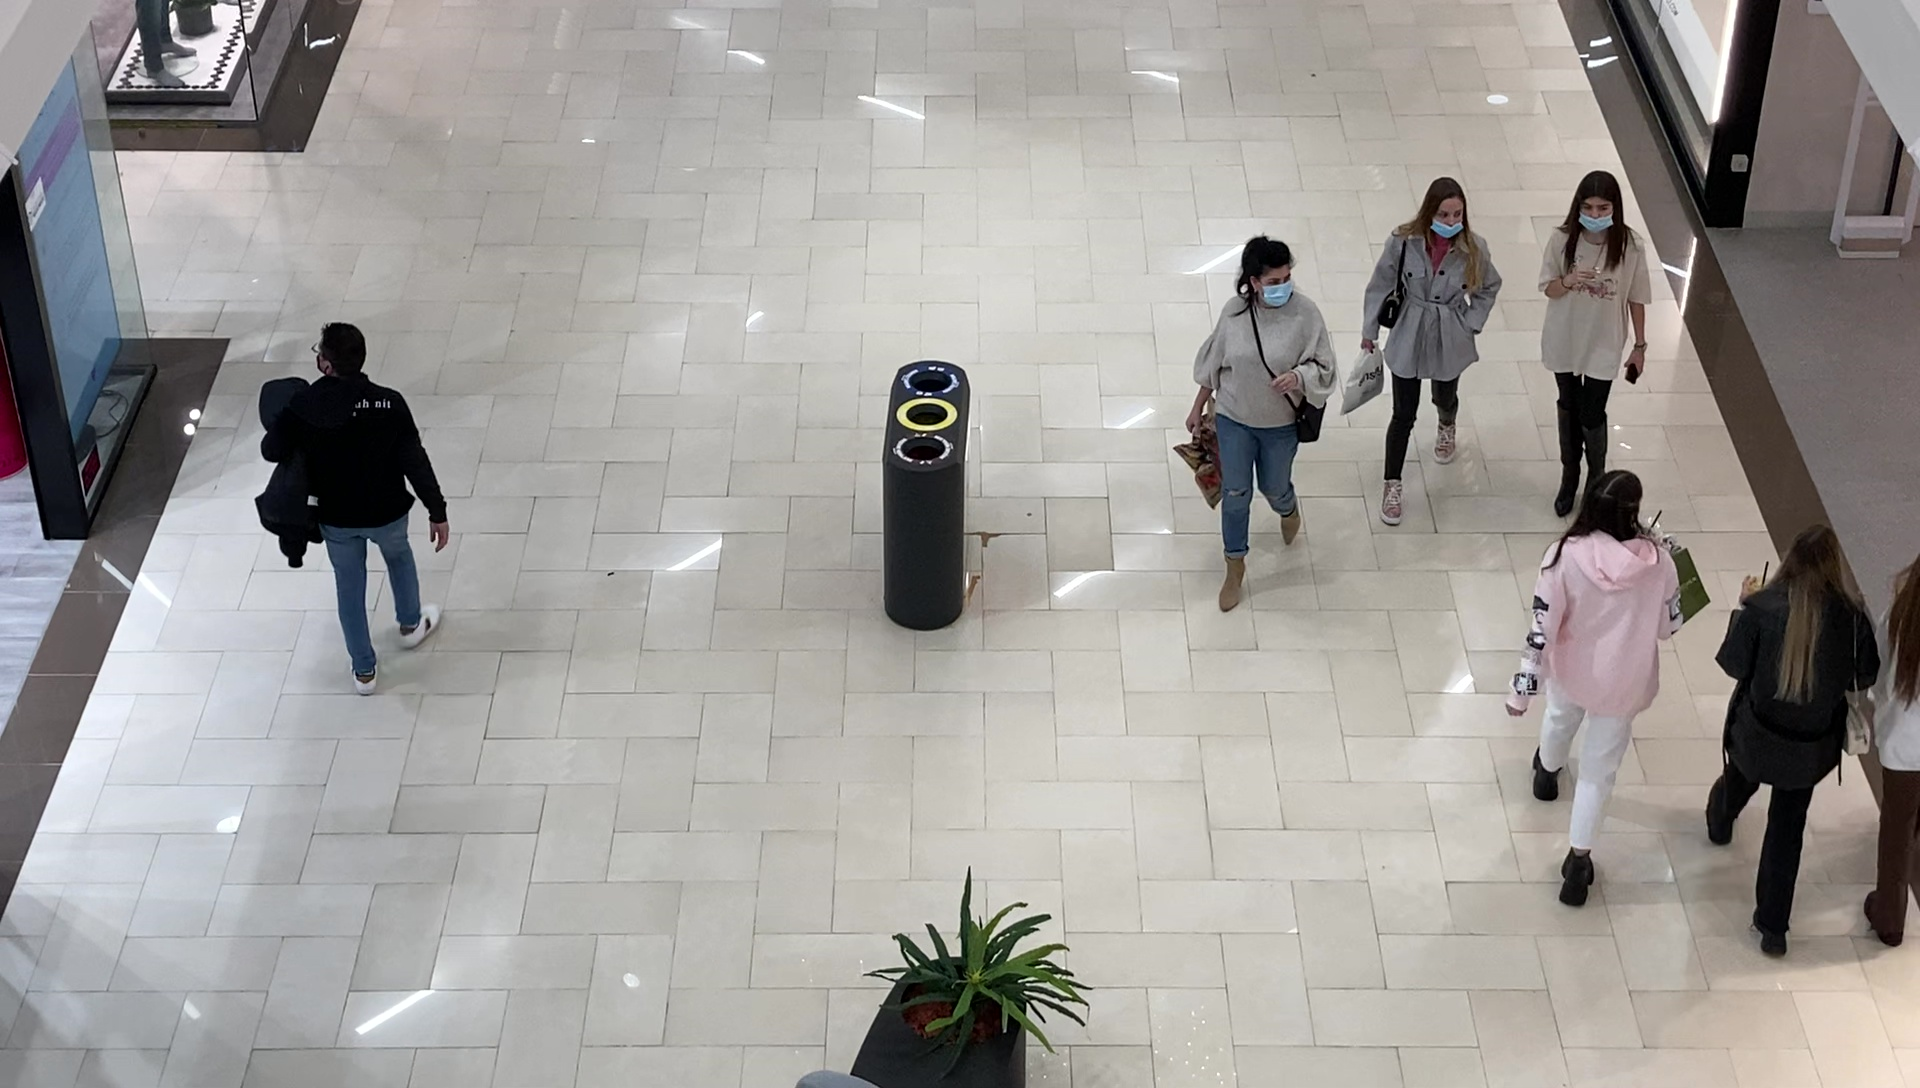person: (1507, 469, 1683, 902), (1710, 526, 1880, 958), (259, 321, 452, 696), (1185, 237, 1337, 613), (1360, 177, 1502, 530), (1539, 169, 1653, 514)
